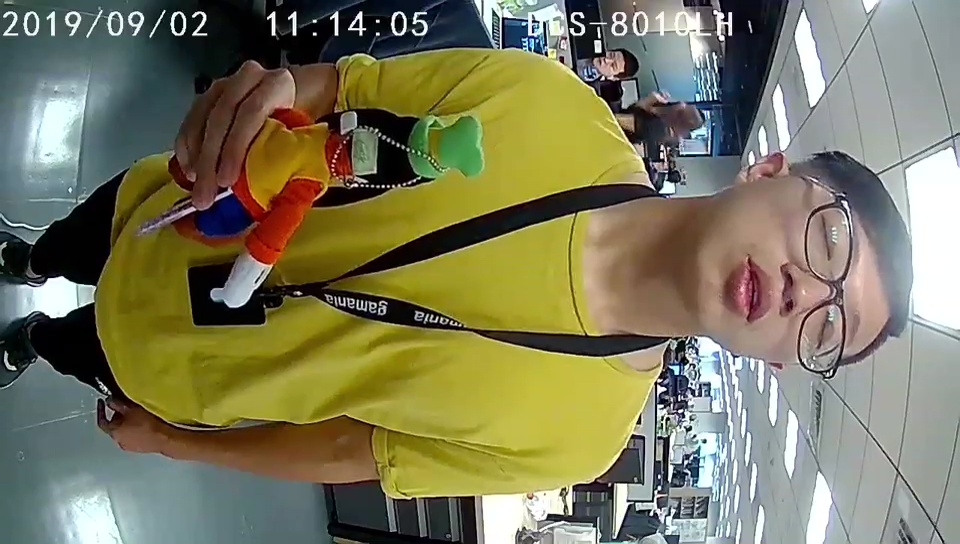goofy: (222, 113, 483, 305)
